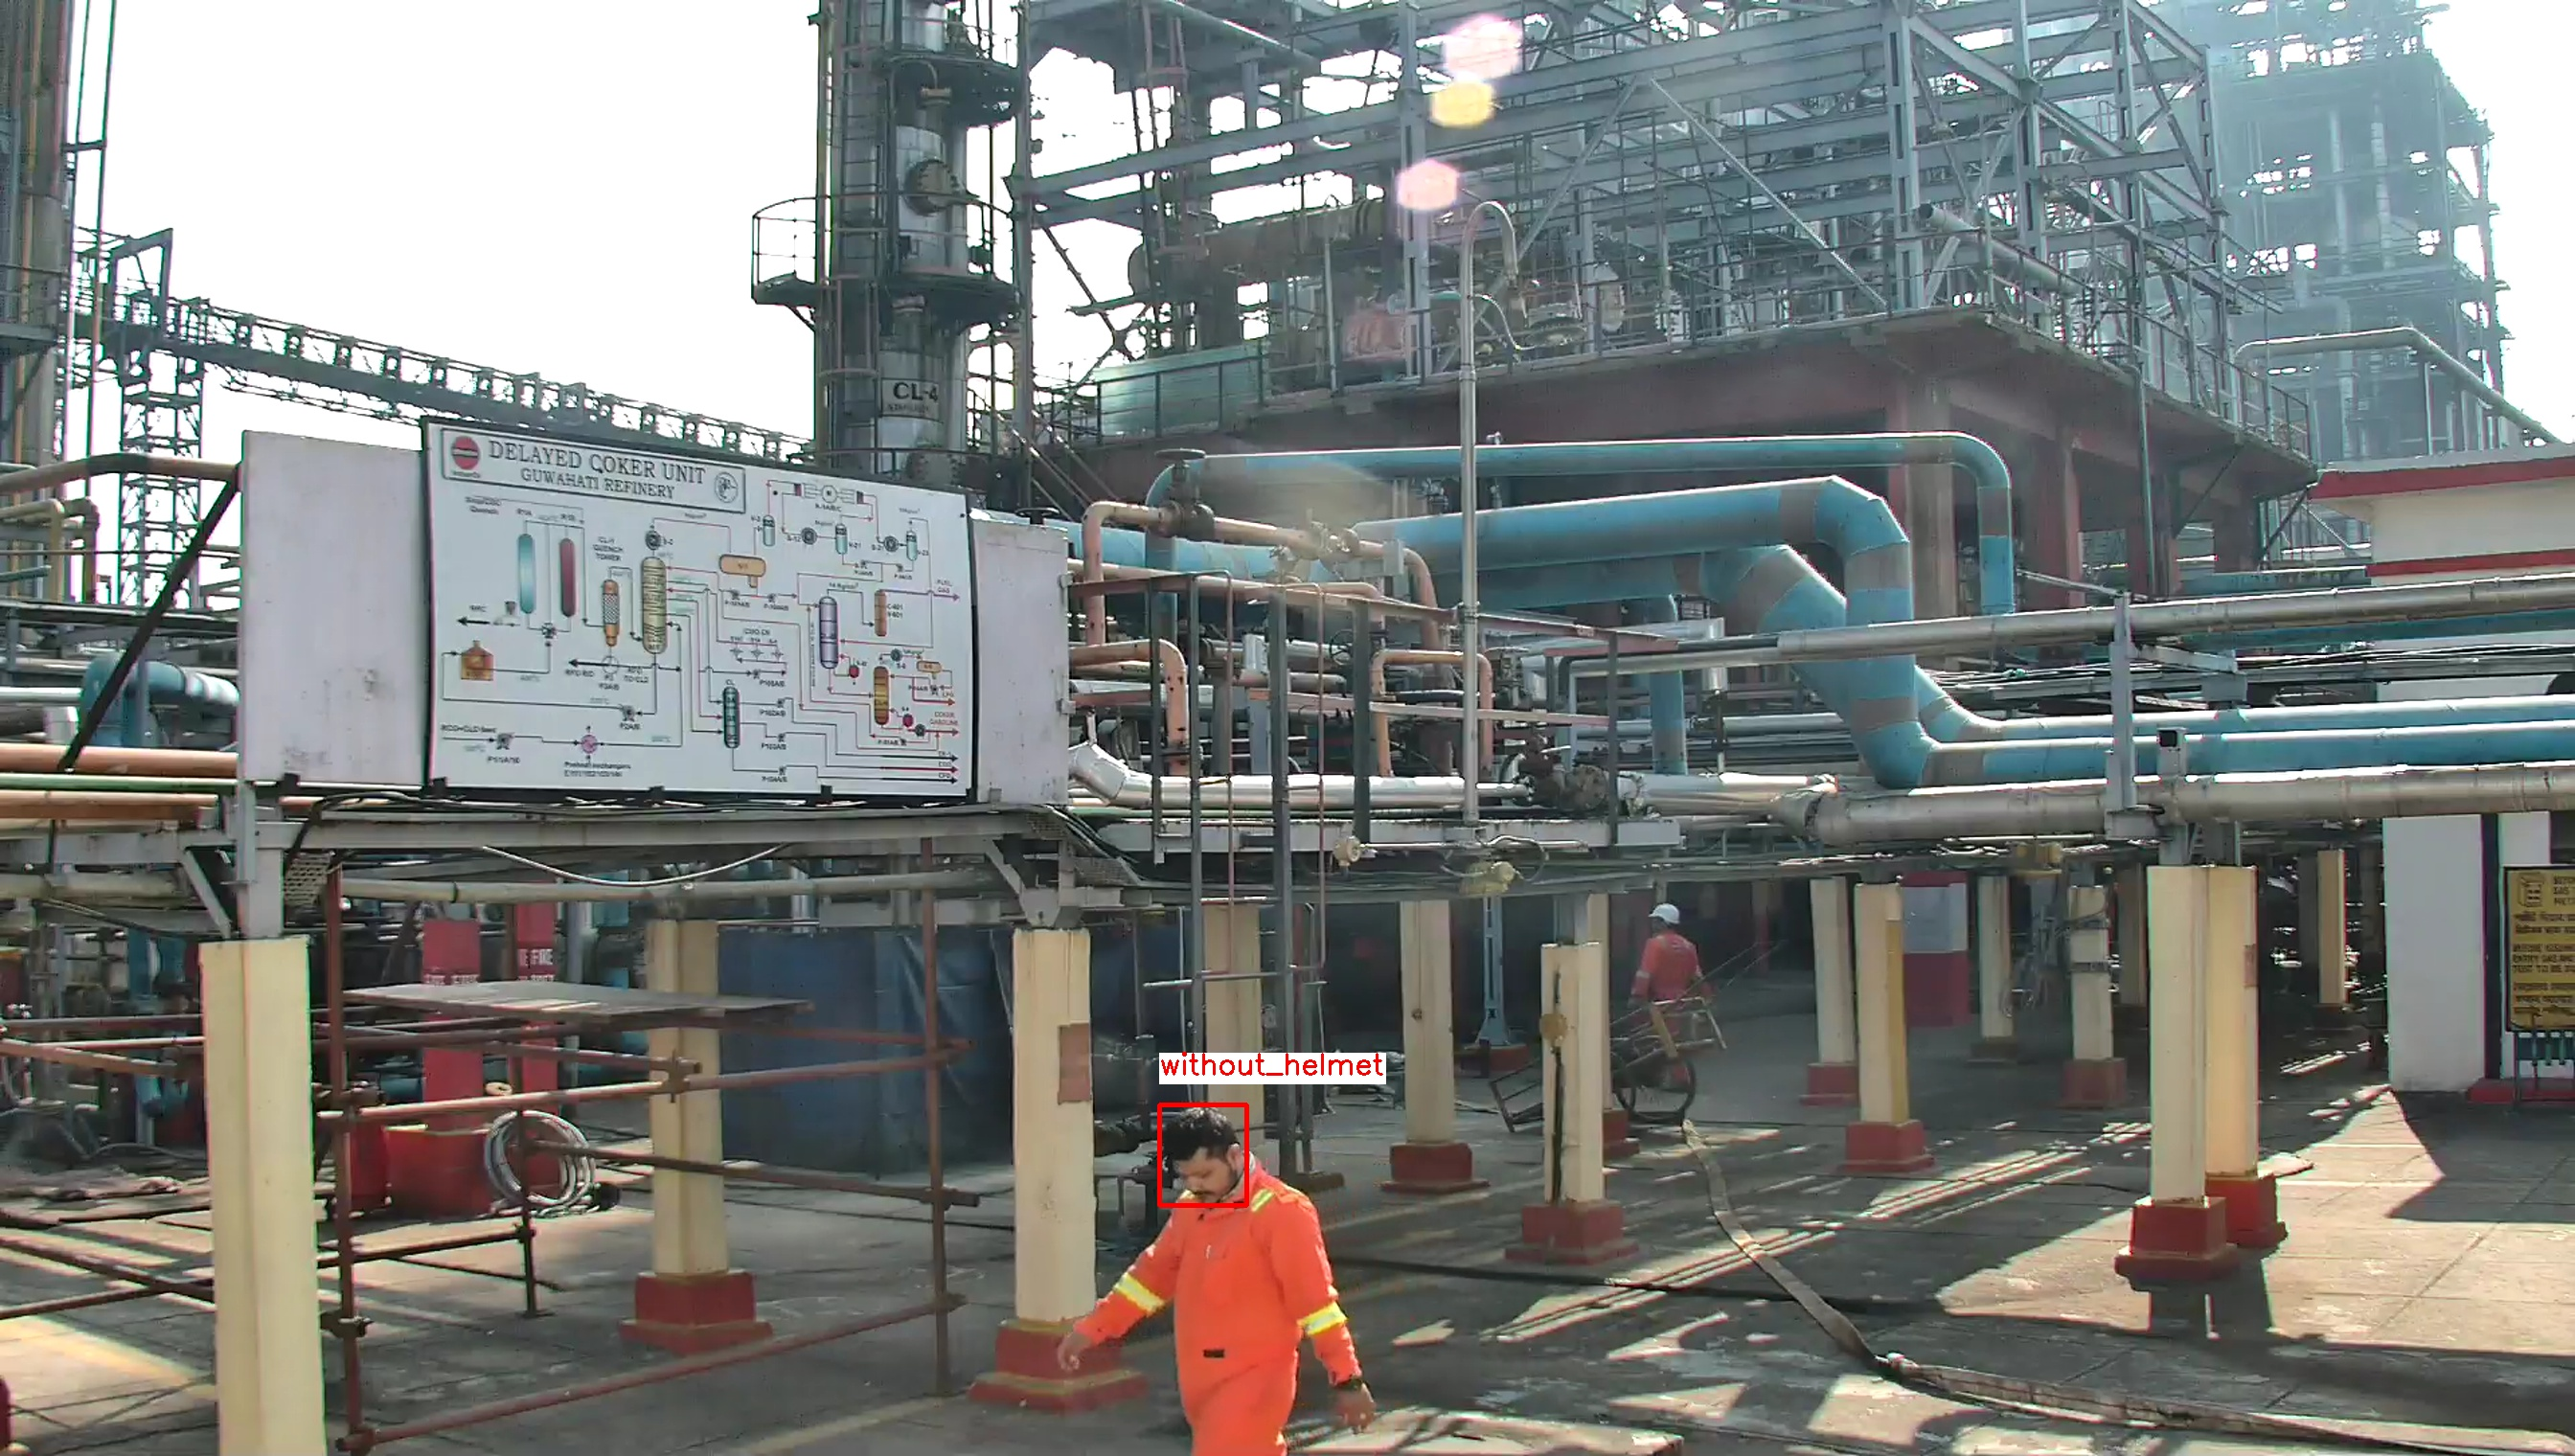IFR_Suit: (1082, 1187, 1364, 1449)
